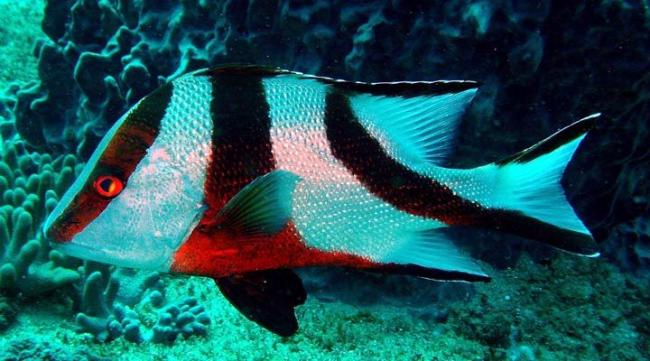fish: (42, 63, 603, 339)
